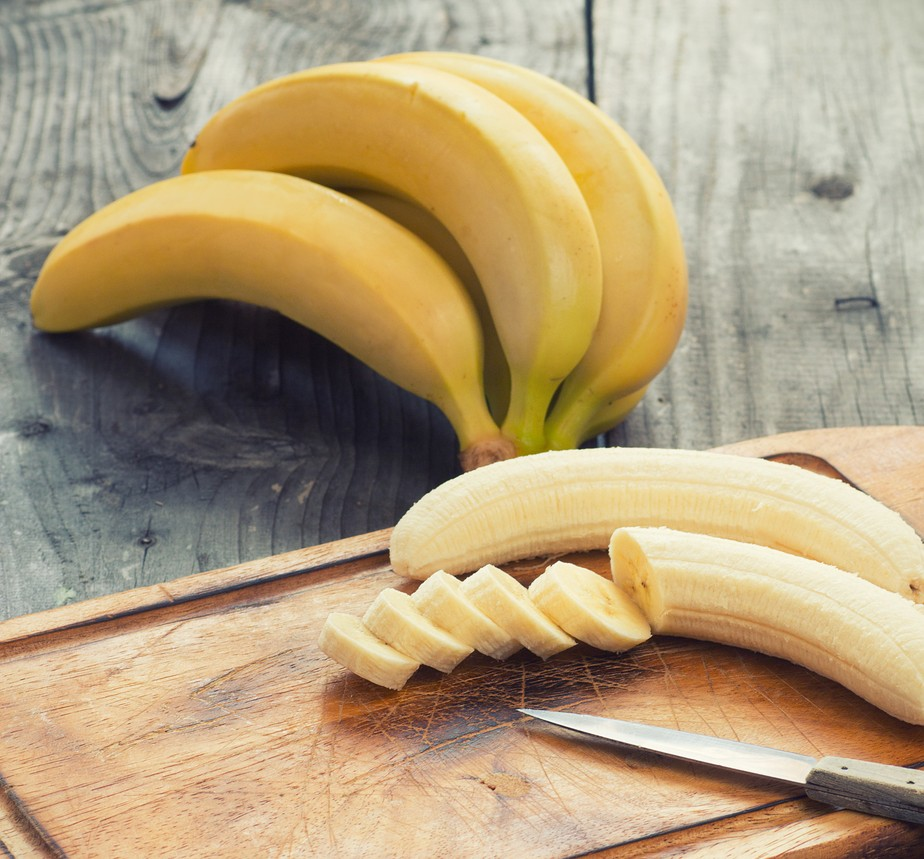banana: (37, 61, 679, 399), (321, 541, 924, 707), (402, 450, 924, 599)
